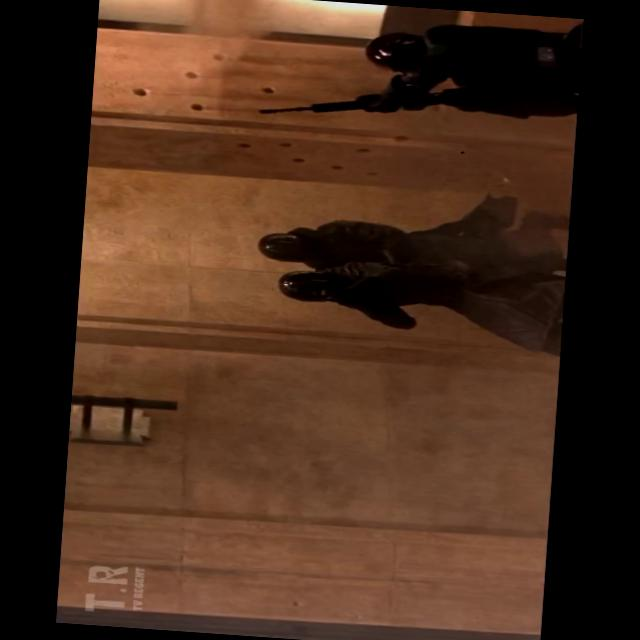long weapon: (258, 58, 505, 140)
